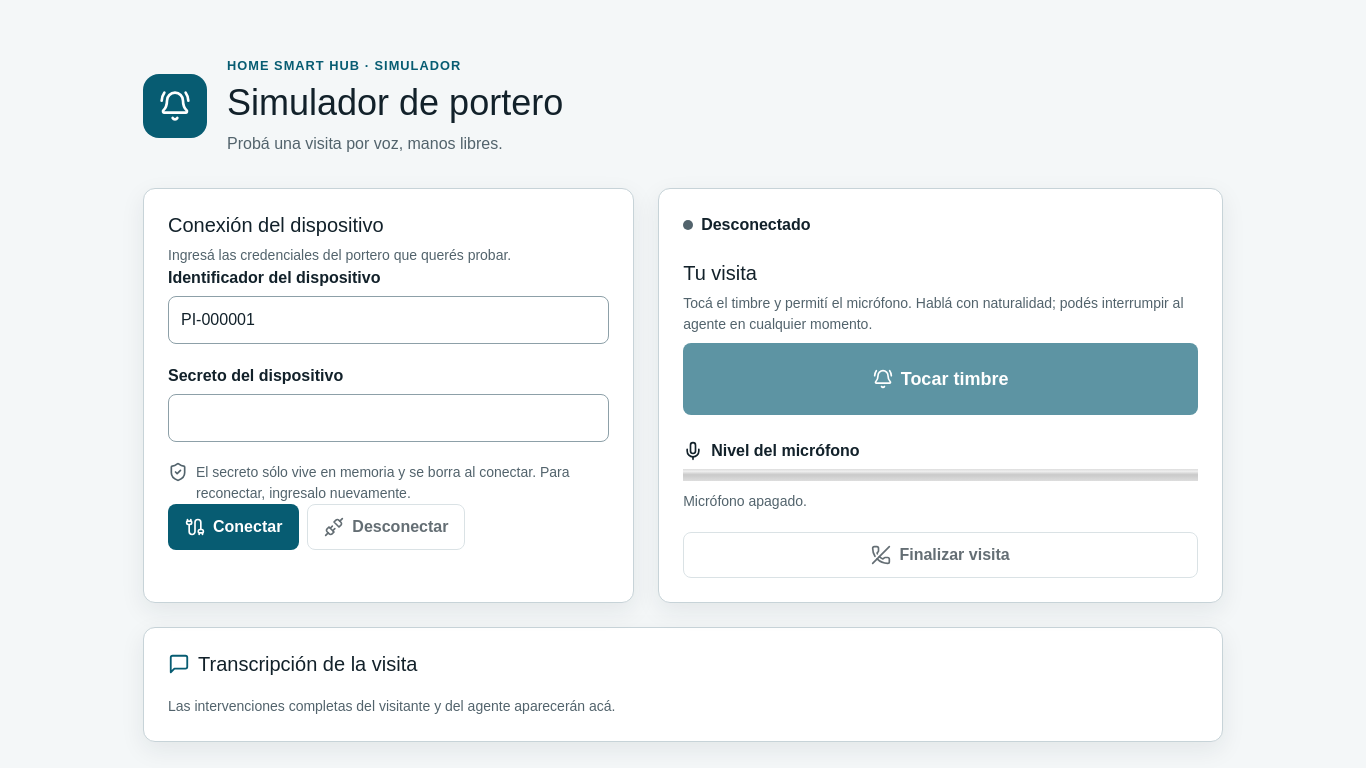
Test: independent hands-free simulator › rejects invalid ID PI-12345 inline and focuses it
Replace the text in the field labelled "Identificador del dispositivo" with "PI-12345": coordinates (389, 320) [168,296,609,344]
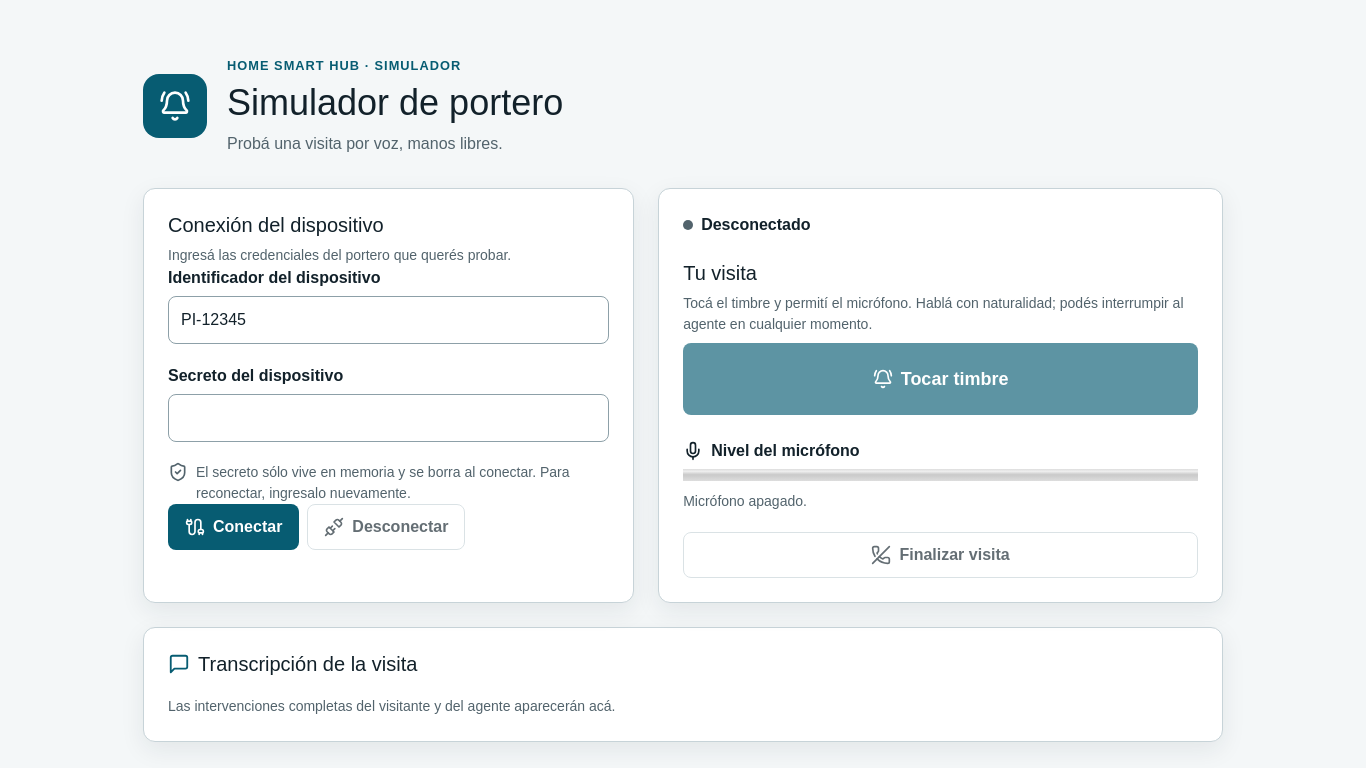
In the password field labelled "Secreto del dispositivo": coordinates (389, 418) [168,394,609,442], type "test-device-secret-12345678901234567890"
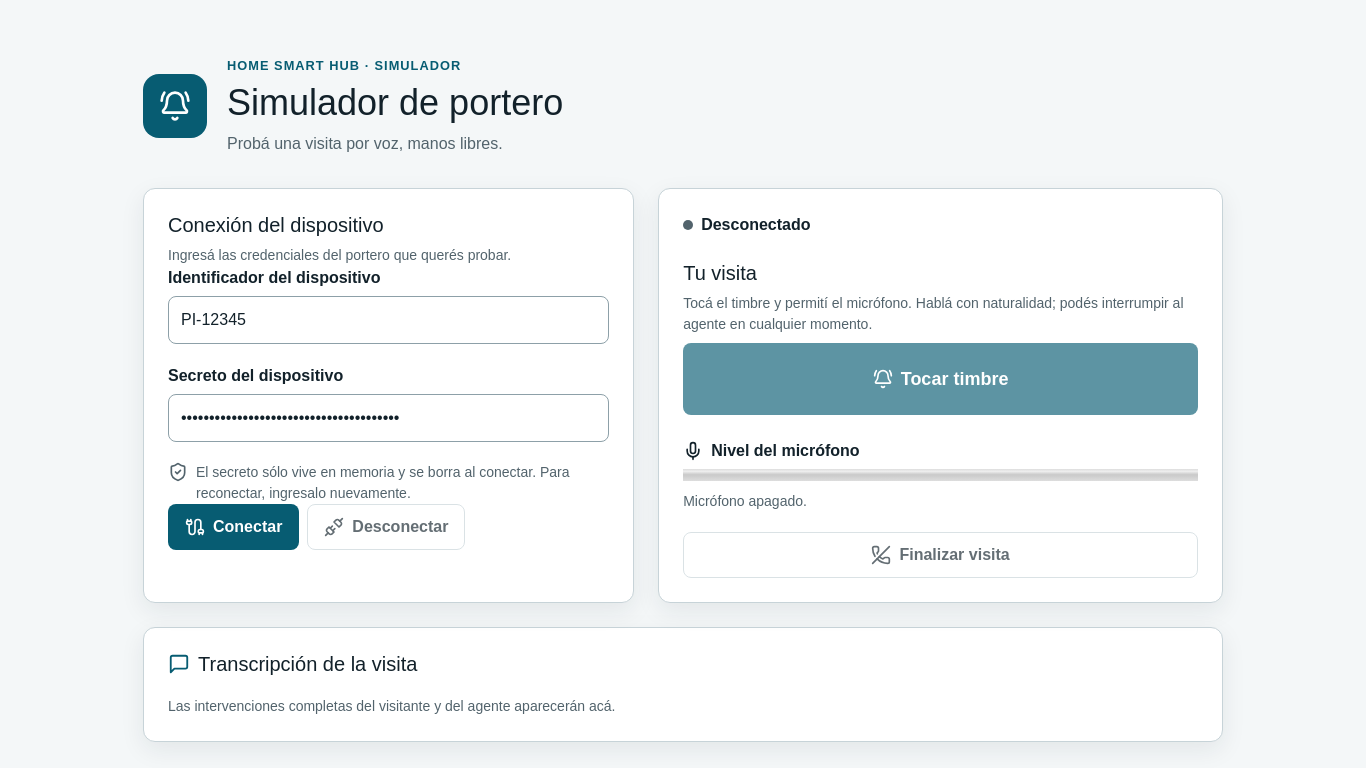
Click the button "Conectar": coordinates (234, 527) [168,504,299,550]
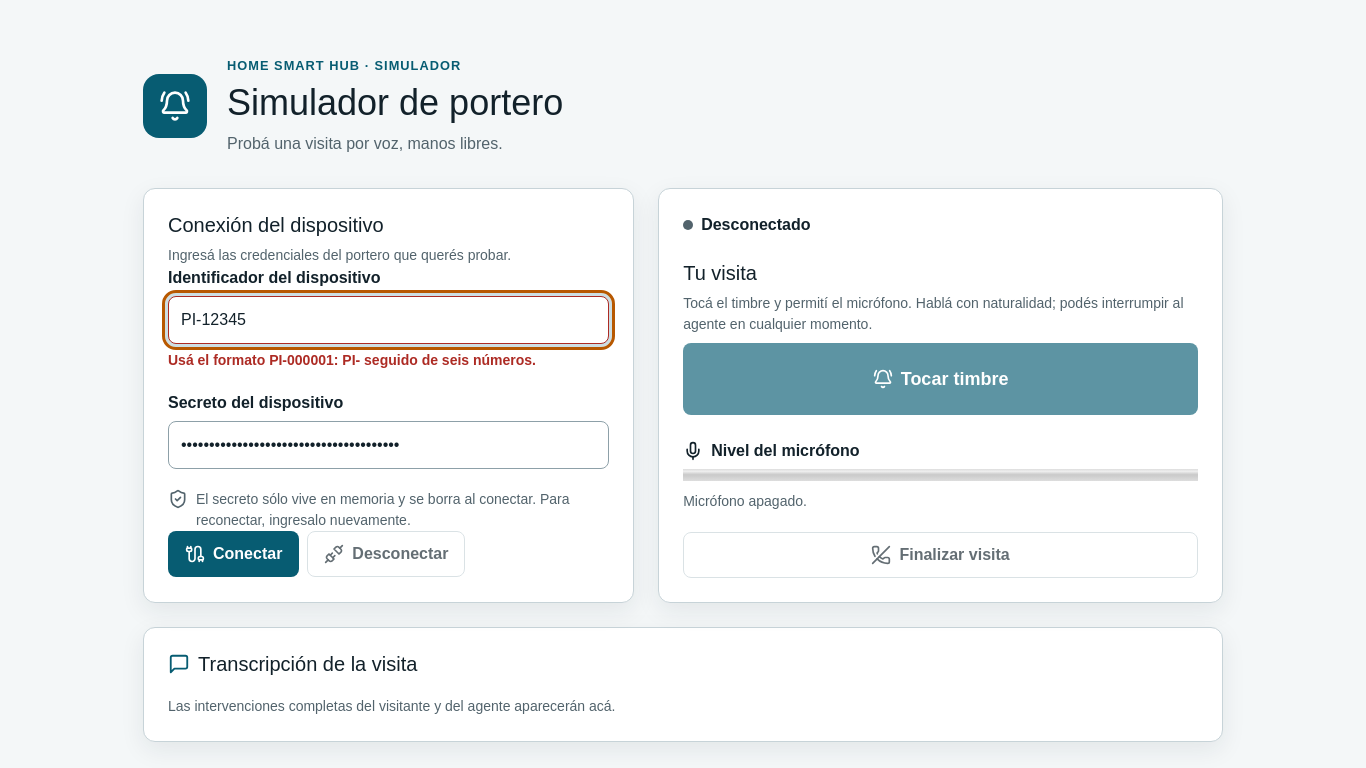
Result: the text "Usá el formato PI-000001: PI- seguido de seis números." is shown at [168,352,536,368]
